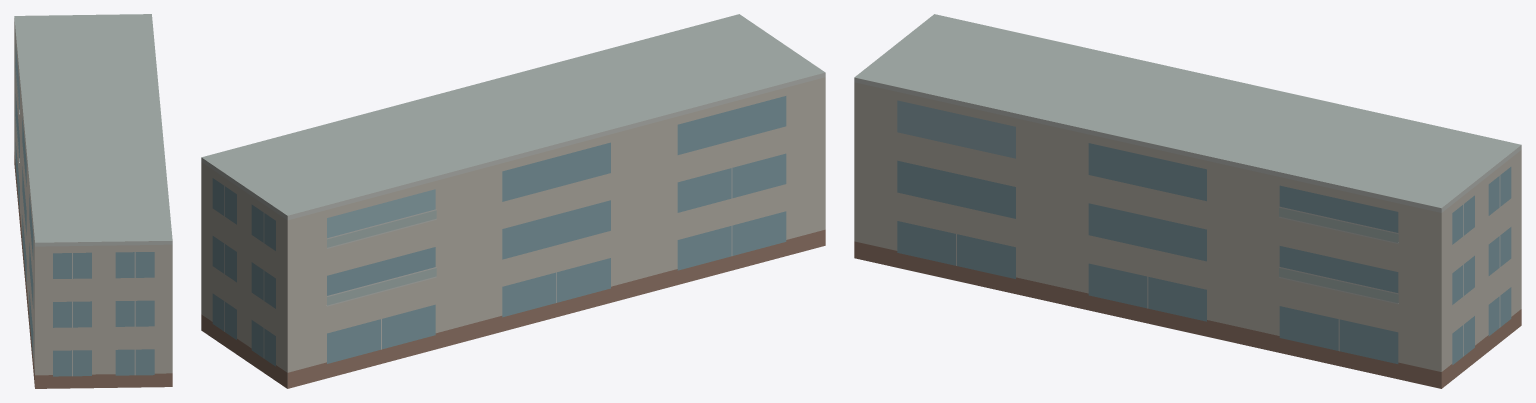
File: survey-upis-32720703.glb
3 views of the same model, side by side, from view 1: azimuth 30°, elevation 25°; view 2: azimuth 150°, elevation 25°; view 3: azimuth 270°, elevation 25° (orthographic). The views are drawn at different scales.
Parts seen in each view (by area): view 1: survey-upis-32720703.tmp; view 2: survey-upis-32720703.tmp; view 3: survey-upis-32720703.tmp.
Part boxes in pixels (x1,y1,x2,y2): survey-upis-32720703.tmp: (14, 14, 172, 388); survey-upis-32720703.tmp: (201, 14, 825, 388); survey-upis-32720703.tmp: (854, 14, 1521, 388).
Size of the model in its own units: 21.1 by 9.15 by 30.64.
